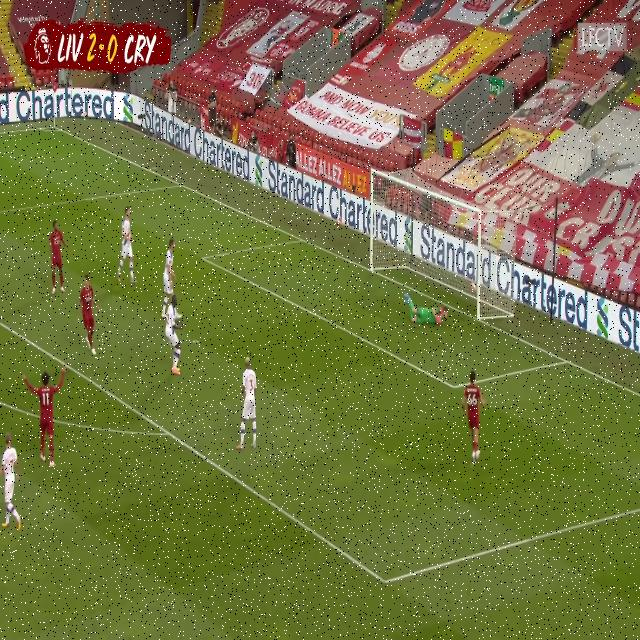Ball: (471, 276, 478, 294)
GoalKeeper: (22, 370, 66, 469), (458, 372, 484, 466), (396, 287, 451, 329), (77, 274, 100, 358), (47, 221, 69, 297)
TEAM 2: (3, 438, 23, 534), (161, 234, 181, 322), (239, 359, 257, 454), (161, 296, 183, 370), (118, 205, 137, 288)
